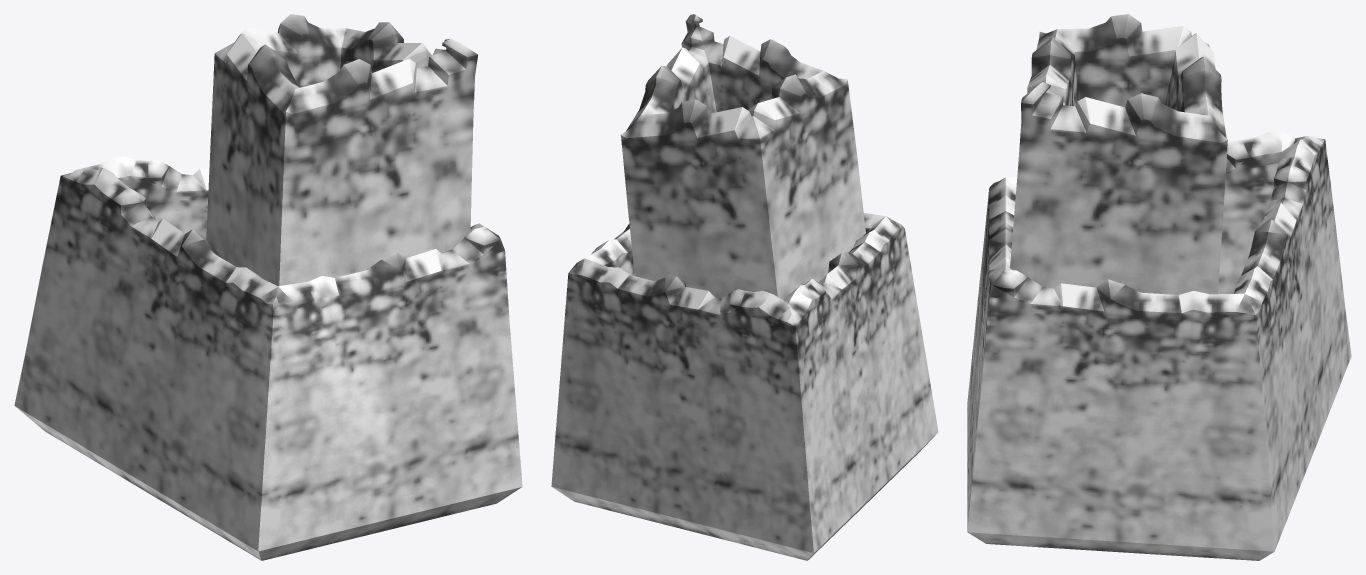
File: Ruins_tower02b.fbx
3 views of the same model, side by side, from view 1: azimuth 30°, elevation 25°; view 2: azimuth 150°, elevation 25°; view 3: azimuth 270°, elevation 25° (orthographic). The views are drawn at different scales.
Visible parts, largest first — view 1: Ruins_tower02b, Ruins_tower03; view 2: Ruins_tower02b, Ruins_tower03; view 3: Ruins_tower02b, Ruins_tower03.
Part boxes in pixels (left/top/right/bottom): Ruins_tower02b: left=14, top=156, right=522, bottom=560; Ruins_tower03: left=206, top=14, right=477, bottom=286; Ruins_tower02b: left=551, top=213, right=938, bottom=560; Ruins_tower03: left=620, top=14, right=865, bottom=299; Ruins_tower02b: left=967, top=131, right=1351, bottom=560; Ruins_tower03: left=1010, top=14, right=1227, bottom=294.
Size of the model in its own units: 415 by 561 by 419.
